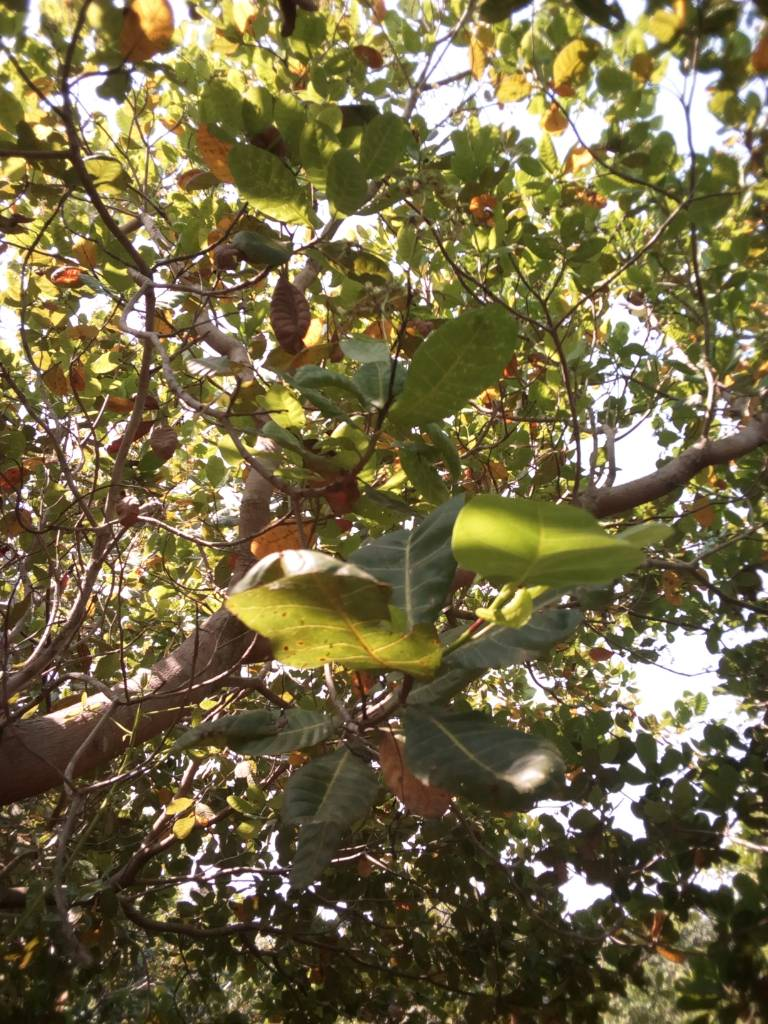Anthracnose: (225, 571, 447, 677)
